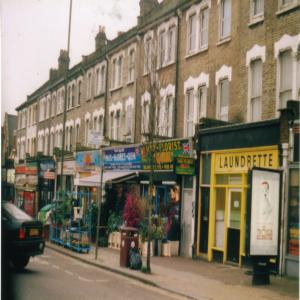Vehicle-registration-plate: (31, 230, 40, 236)
